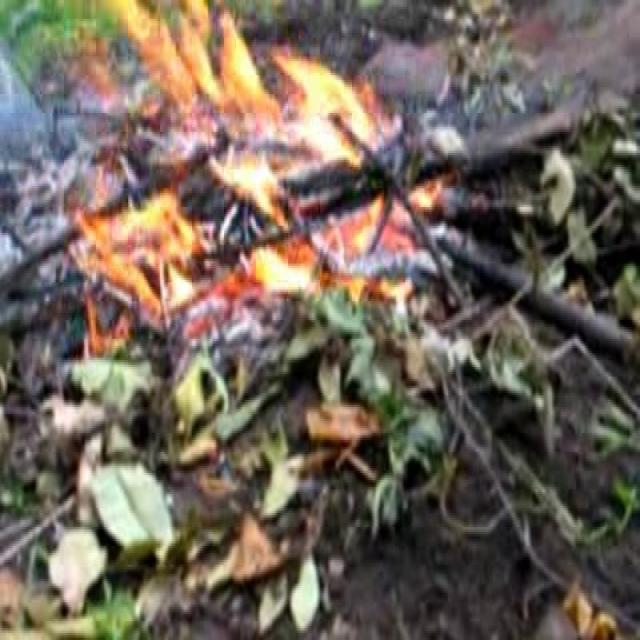Fire: (62, 0, 441, 362)
